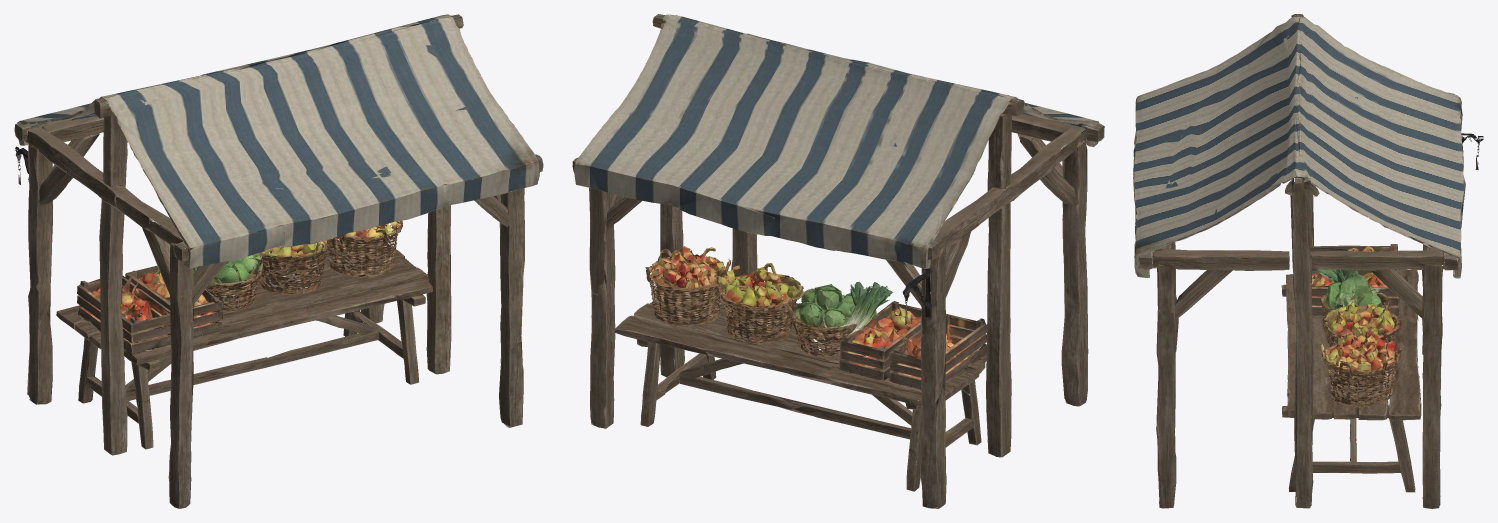
Rendered from etal_bleu.glb.
3 renders of one model, left to right at view 1: azimuth 30°, elevation 25°; view 2: azimuth 150°, elevation 25°; view 3: azimuth 270°, elevation 25°, orthographic. The views are drawn at different scales.
Parts seen in each view (by area): view 1: etal_bleu; view 2: etal_bleu; view 3: etal_bleu.
Boxes of the visible parts, left/top/right/bottom form: etal_bleu: left=14, top=14, right=543, bottom=508; etal_bleu: left=572, top=14, right=1104, bottom=508; etal_bleu: left=1133, top=14, right=1483, bottom=508.
Size of the model in its own units: 3.59 by 3.37 by 3.19.
Materials: 1 (1 with a texture image).
